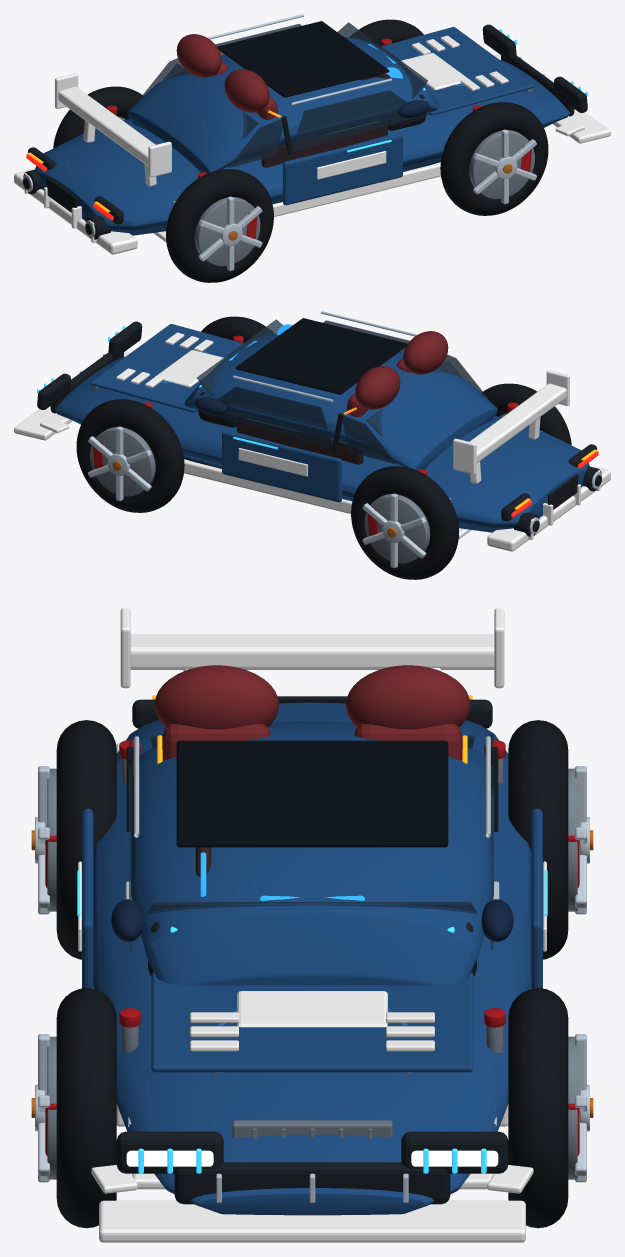
Rendered from spectral.glb.
3 views of the same model, one above another, from view 1: azimuth 30°, elevation 25°; view 2: azimuth 150°, elevation 25°; view 3: azimuth 270°, elevation 25° (orthographic). The views are drawn at different scales.
Parts seen in each view (by area): view 1: body, Front_Left_Wheel, Rear_Left_Wheel, DOOR_L_CTRL, Rear_Right_Wheel, Front_Right_Wheel; view 2: body, Front_Right_Wheel, Rear_Right_Wheel, DOOR_R_CTRL, Rear_Left_Wheel, Front_Left_Wheel; view 3: body, Front_Left_Wheel, Front_Right_Wheel, Rear_Left_Wheel, Rear_Right_Wheel, DOOR_L_CTRL, DOOR_R_CTRL.
Boxes of the visible parts, <box> form: body: <box>14,14,610,254</box>; Front_Left_Wheel: <box>440,102,548,215</box>; Rear_Left_Wheel: <box>166,169,273,282</box>; DOOR_L_CTRL: <box>283,133,402,205</box>; Rear_Right_Wheel: <box>53,86,142,148</box>; Front_Right_Wheel: <box>351,19,423,46</box>; body: <box>14,311,610,551</box>; Front_Right_Wheel: <box>76,399,184,512</box>; Rear_Right_Wheel: <box>351,466,458,579</box>; DOOR_R_CTRL: <box>222,430,341,502</box>; Rear_Left_Wheel: <box>482,383,571,445</box>; Front_Left_Wheel: <box>201,316,273,343</box>; body: <box>91,608,533,1242</box>; Front_Left_Wheel: <box>31,988,140,1228</box>; Front_Right_Wheel: <box>484,988,593,1228</box>; Rear_Left_Wheel: <box>31,720,140,959</box>; Rear_Right_Wheel: <box>484,720,593,959</box>; DOOR_L_CTRL: <box>77,808,93,988</box>; DOOR_R_CTRL: <box>531,808,547,988</box>.
Size of the model in its own units: 5.21 by 1.68 by 2.53.
